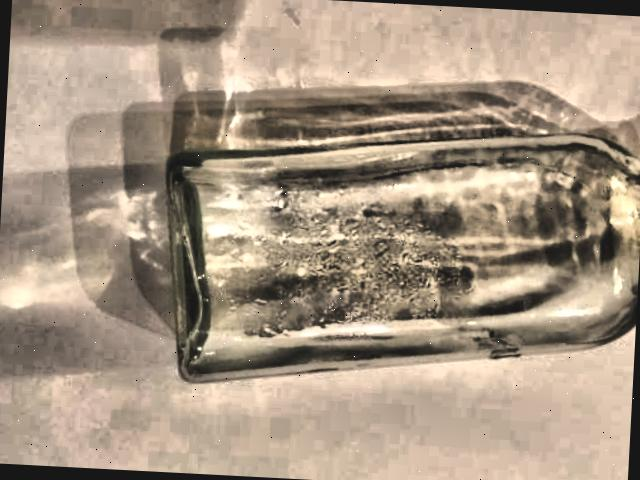Almennt: (162, 82, 640, 416)
